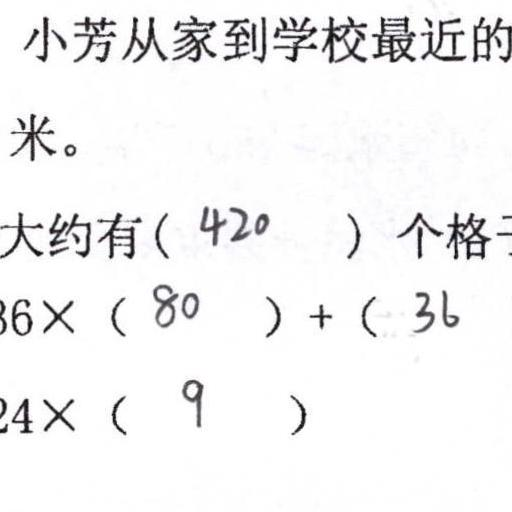ans: (194, 197, 269, 246), (146, 276, 198, 328), (406, 282, 457, 333), (175, 371, 207, 427)
